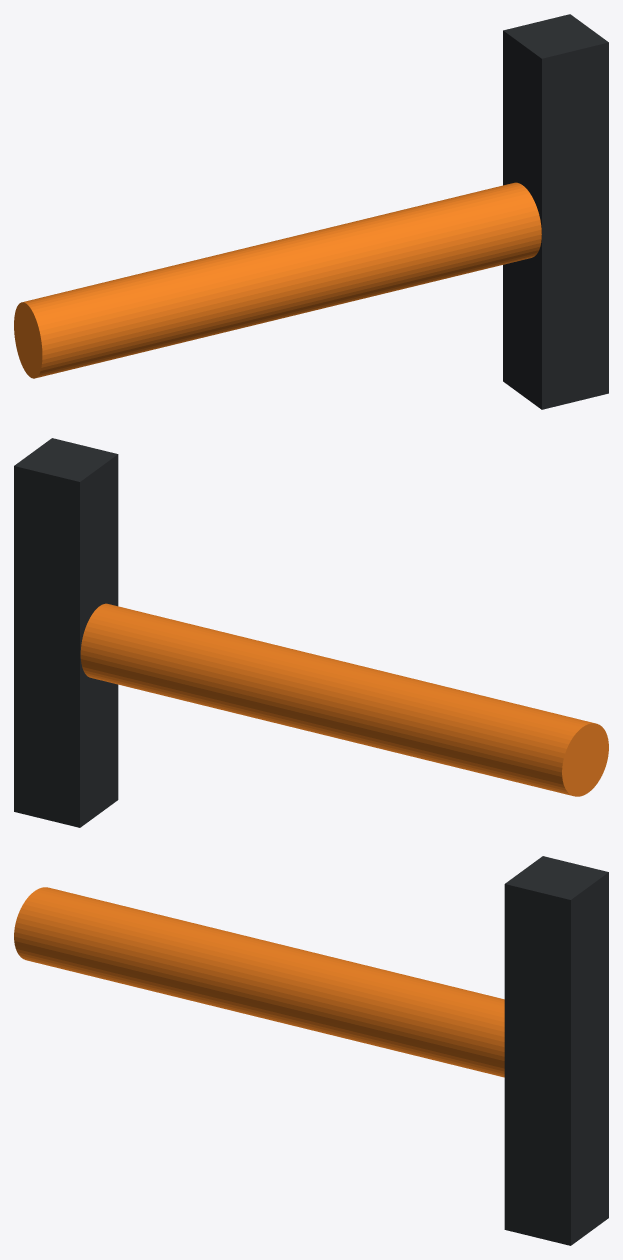
Rendered from tinker.obj.
3 renders of one model, top to bottom at view 1: azimuth 30°, elevation 25°; view 2: azimuth 150°, elevation 25°; view 3: azimuth 330°, elevation 25°, orthographic.
Visible parts, largest first — view 1: obj_0, obj_1; view 2: obj_0, obj_1; view 3: obj_1, obj_0.
Part boxes in pixels (bbox=[...]): obj_0: bbox=[14, 182, 541, 378]; obj_1: bbox=[503, 14, 608, 409]; obj_0: bbox=[80, 603, 608, 796]; obj_1: bbox=[14, 438, 118, 827]; obj_1: bbox=[504, 856, 608, 1245]; obj_0: bbox=[14, 887, 504, 1077].
Bounding box in the file's own units: 253 × 150 × 30.
